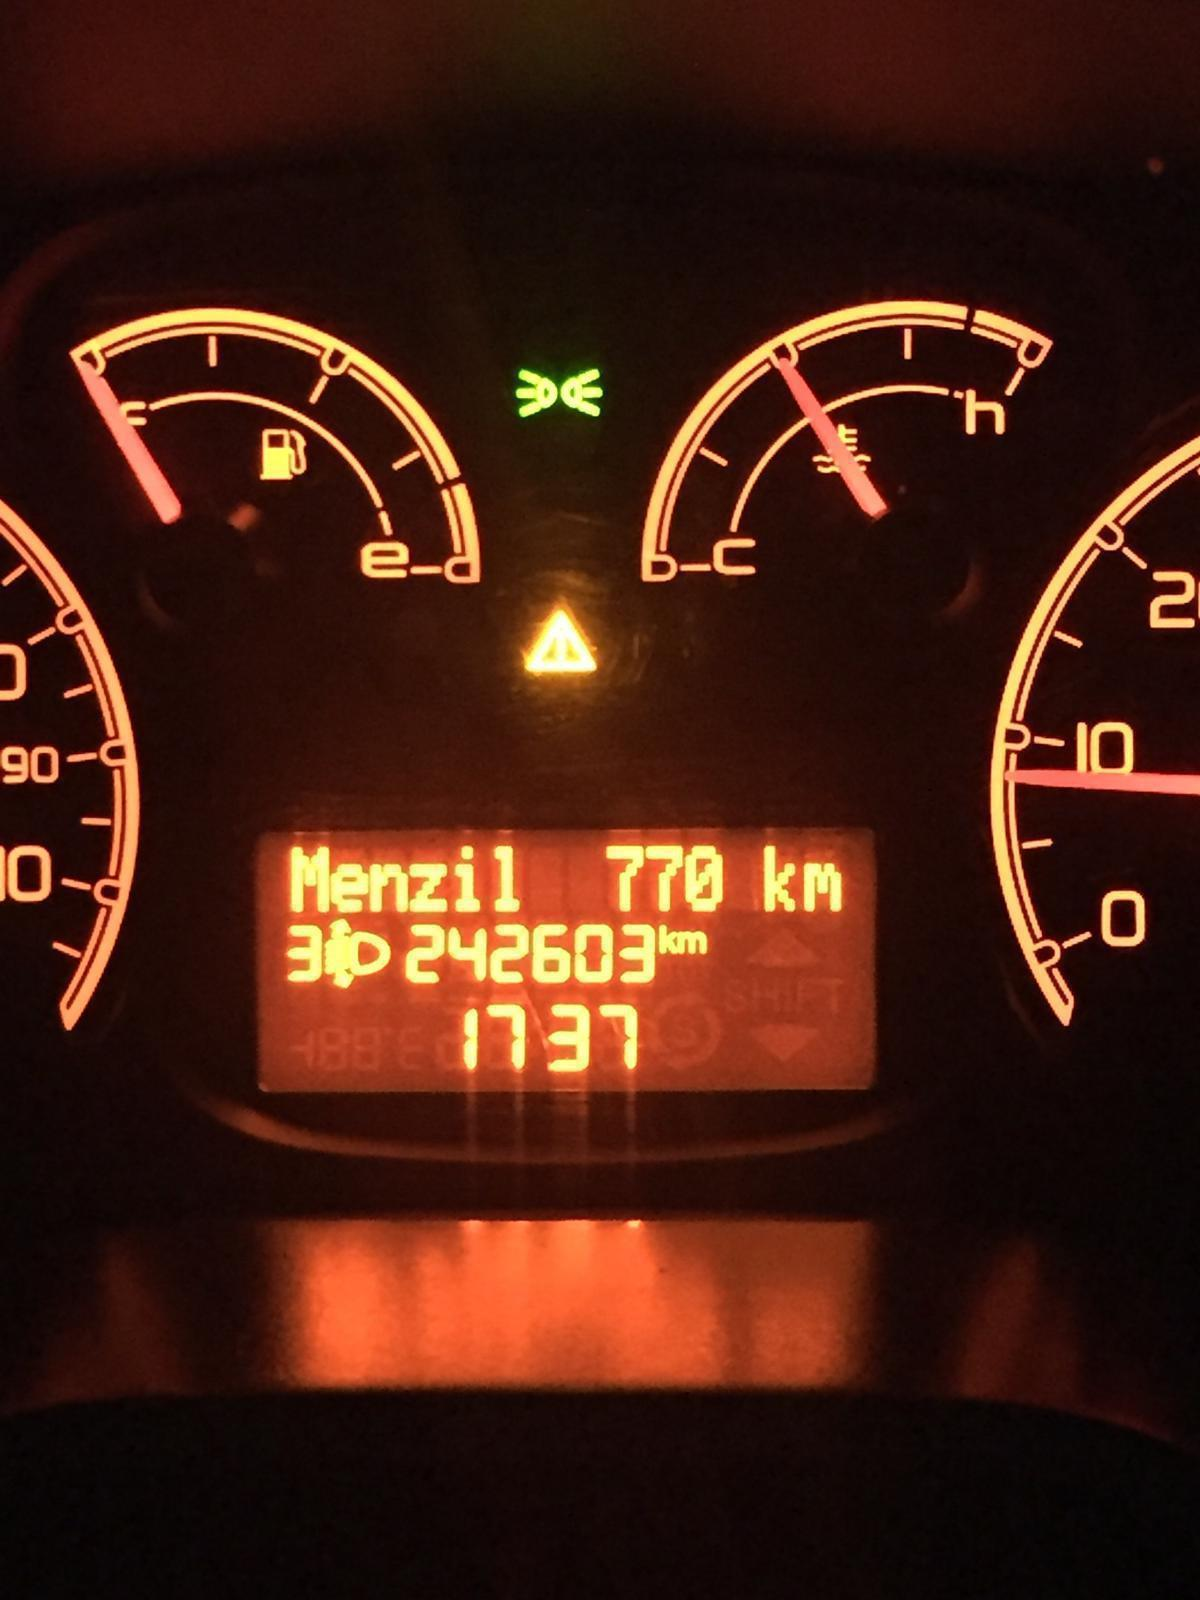0: (684, 842, 724, 912), (574, 921, 611, 981)
1: (458, 1003, 480, 1077)
2: (405, 923, 446, 988), (489, 920, 528, 984)
3: (546, 997, 592, 1077), (281, 918, 324, 986), (618, 921, 655, 986)
4: (447, 922, 489, 984)
6: (531, 922, 571, 983)
7: (484, 997, 529, 1072), (597, 997, 642, 1073), (605, 837, 642, 917), (645, 838, 682, 910)
X: (289, 845, 329, 916), (490, 838, 526, 913), (761, 842, 797, 913), (800, 859, 843, 912), (328, 860, 369, 913), (453, 842, 482, 915), (408, 859, 447, 913), (371, 860, 408, 913), (677, 929, 708, 954), (658, 922, 676, 955)
odometer: (251, 806, 891, 1110)
